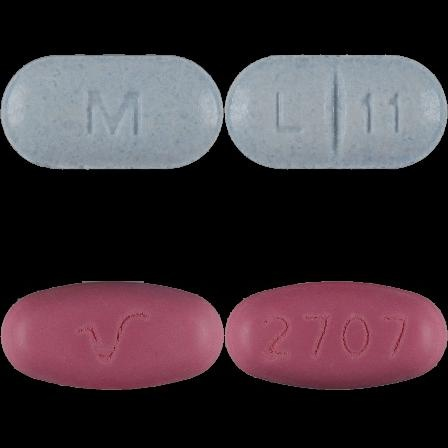53808-0679: (0, 0, 224, 224)
